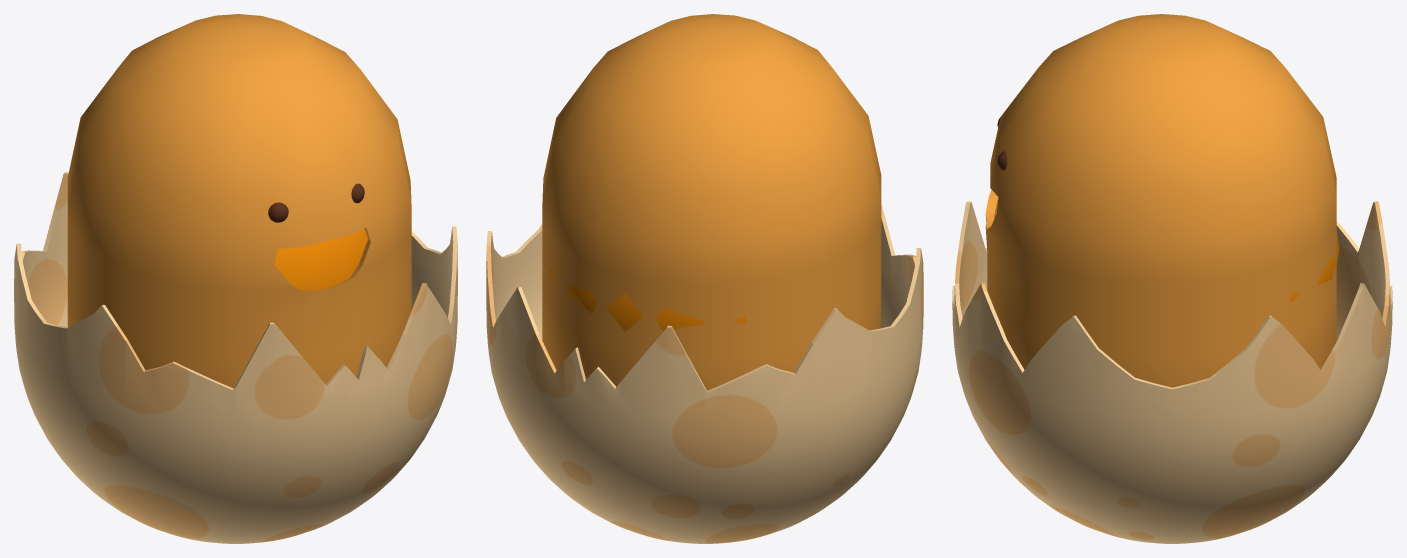
File: sino1.fbx
3 renders of one model, left to right at view 1: azimuth 30°, elevation 25°; view 2: azimuth 150°, elevation 25°; view 3: azimuth 270°, elevation 25°, orthographic.
Visible parts, largest first — view 1: Capsule, Capsule__Extrude__1, 구; view 2: Capsule, Capsule__Extrude__1, 구; view 3: Capsule, Capsule__Extrude__1.
Part boxes in pixels (x1,y1,x2,y2): Capsule: (67,14,411,388); Capsule__Extrude__1: (14,172,457,543); 구: (274,228,367,290); Capsule: (542,14,881,390); Capsule__Extrude__1: (486,204,923,543); 구: (549,267,746,331); Capsule: (985,14,1336,387); Capsule__Extrude__1: (952,201,1392,543).
Size of the model in its own units: 17.94 by 22.16 by 17.95.
Materials: 4 (1 with a texture image).
